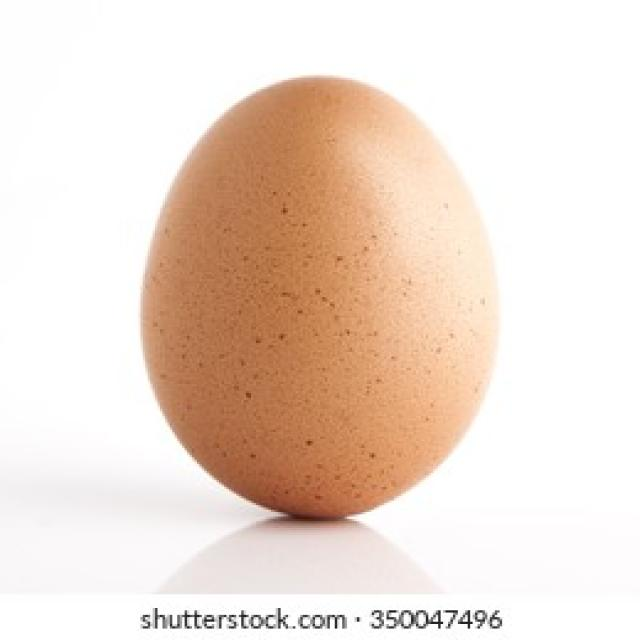Brown Egg: (137, 70, 505, 525)
